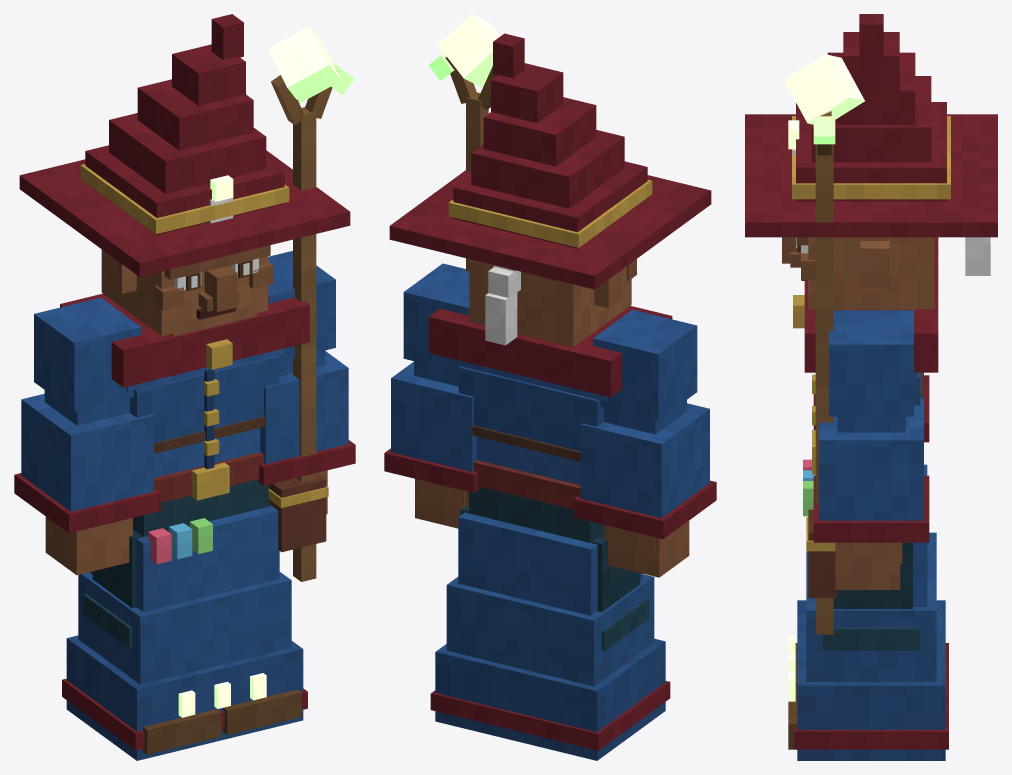
File: human_mage_v3.glb
3 renders of one model, left to right at view 1: azimuth 30°, elevation 25°; view 2: azimuth 150°, elevation 25°; view 3: azimuth 270°, elevation 25°, orthographic. The views are drawn at different scales.
Parts seen in each view (by area): view 1: Head, Root, Torso, ArmR, HandL, ArmL, LegR, LegL; view 2: Head, Root, ArmR, Torso, ArmL, HandL, LegR; view 3: Head, ArmL, Root, HandL, Torso, LegL, ArmR.
Part boxes in pixels (left/top/right/bottom): Head: left=19, top=14, right=350, bottom=336; Root: left=62, top=506, right=307, bottom=760; Torso: left=60, top=293, right=328, bottom=564; ArmR: left=14, top=297, right=160, bottom=575; HandL: left=268, top=26, right=354, bottom=581; ArmL: left=257, top=251, right=355, bottom=514; LegR: left=83, top=529, right=221, bottom=754; LegL: left=223, top=503, right=301, bottom=734; Head: left=389, top=33, right=711, bottom=347; Root: left=430, top=512, right=670, bottom=760; ArmR: left=573, top=309, right=716, bottom=577; Torso: left=428, top=306, right=672, bottom=542; ArmL: left=384, top=263, right=479, bottom=528; HandL: left=428, top=14, right=500, bottom=271; LegR: left=591, top=533, right=649, bottom=651; Head: left=745, top=14, right=997, bottom=309; ArmL: left=813, top=310, right=929, bottom=589; Root: left=788, top=464, right=948, bottom=760; HandL: left=784, top=54, right=864, bottom=634; Torso: left=793, top=237, right=938, bottom=597; LegL: left=788, top=542, right=920, bottom=749; ArmR: left=813, top=372, right=929, bottom=442.
Size of the model in its own units: 0.966 by 2.2 by 0.7.
37 materials, 37 textured.
